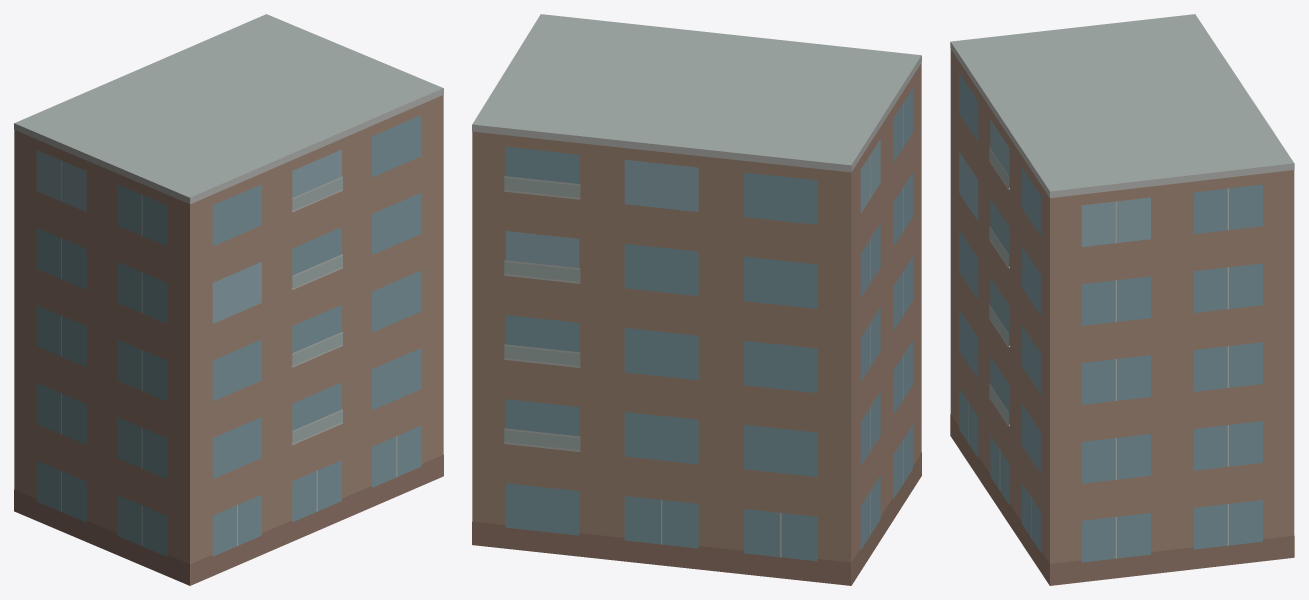
The model's file is survey-upis-32622134.glb.
3 views of the same model, side by side, from view 1: azimuth 30°, elevation 25°; view 2: azimuth 150°, elevation 25°; view 3: azimuth 270°, elevation 25° (orthographic). The views are drawn at different scales.
Visible parts, largest first — view 1: survey-upis-32622134.tmp; view 2: survey-upis-32622134.tmp; view 3: survey-upis-32622134.tmp.
Part boxes in pixels (box(x1,y1,x2,y2)): survey-upis-32622134.tmp: box(14, 14, 443, 585); survey-upis-32622134.tmp: box(472, 14, 921, 585); survey-upis-32622134.tmp: box(950, 14, 1294, 585).
Size of the model in its own units: 14.06 by 14.55 by 11.51.
